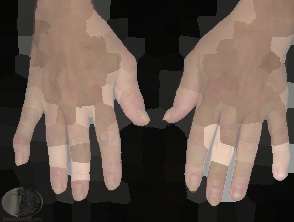Nail_psoriasis: (46, 171, 69, 198), (202, 184, 226, 209), (183, 170, 205, 193), (271, 162, 292, 184), (70, 178, 88, 203), (132, 101, 151, 124), (229, 182, 248, 203), (102, 171, 119, 194), (161, 105, 180, 122), (14, 150, 26, 166)
